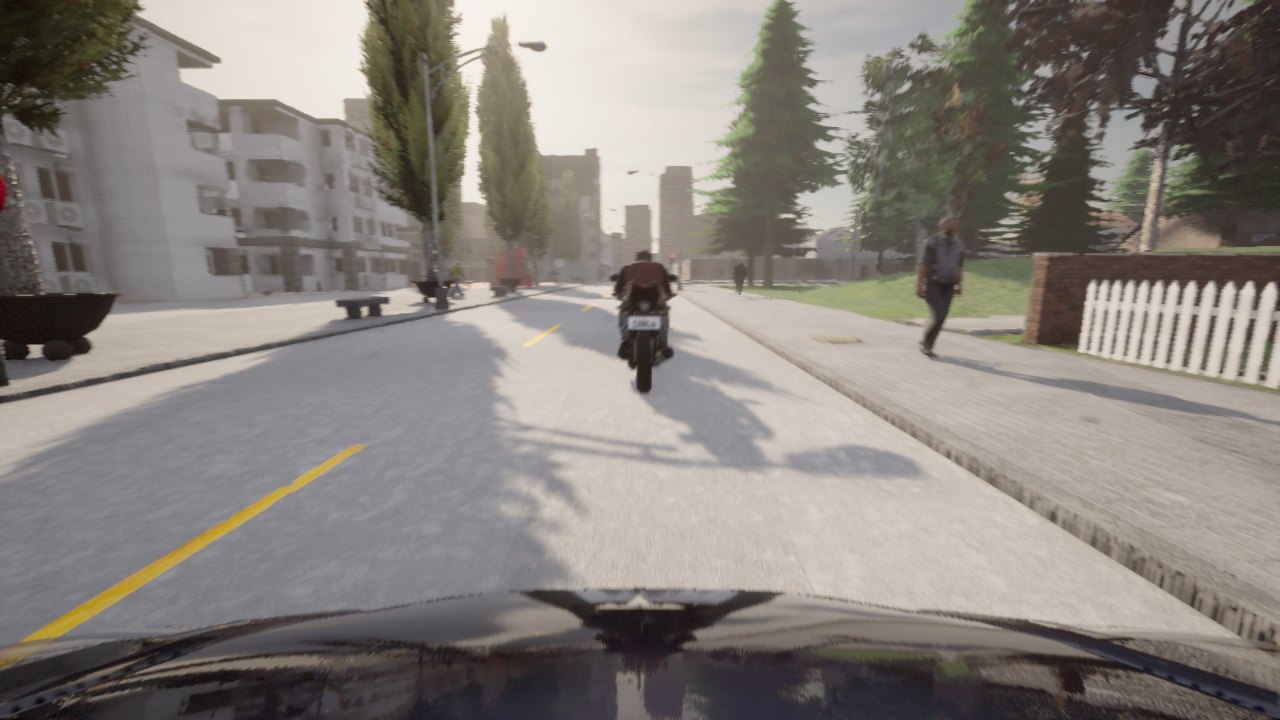cyclist: (0, 588, 1279, 719), (610, 274, 677, 391)
pedestrian: (916, 213, 964, 357), (733, 260, 748, 296), (450, 260, 465, 296)
